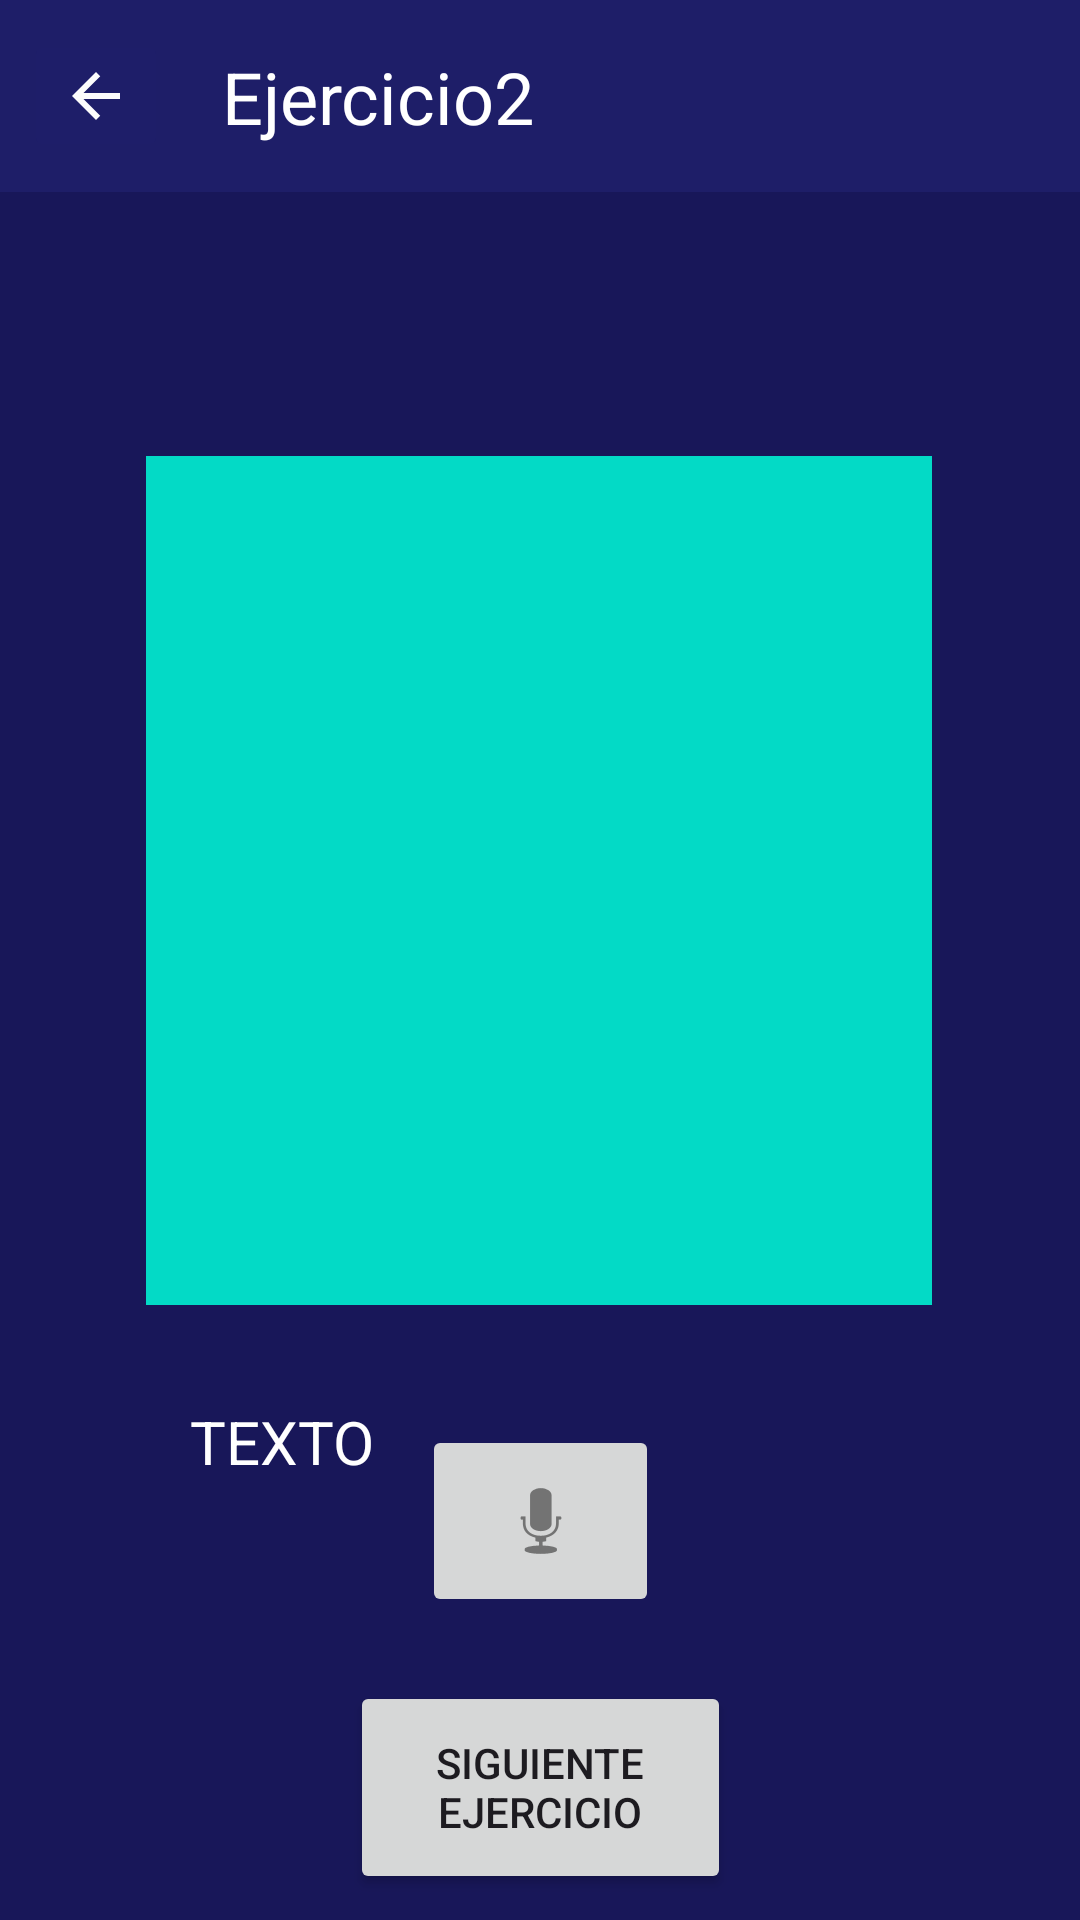

Screen size 1080px x 1920px. Icon name, then its center in pixels as [x,y]:
arrow back: [96,96]
speak now: [540,1521]
